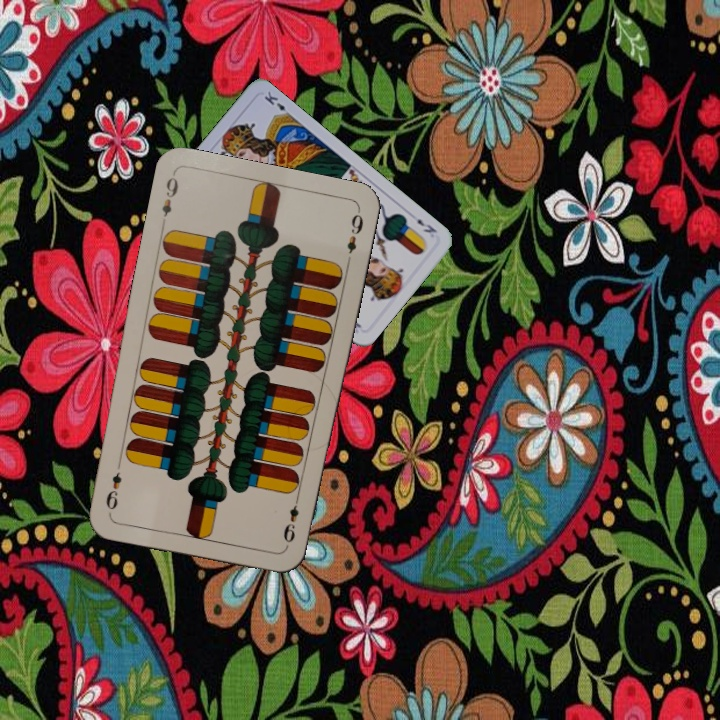E9: (279, 491, 302, 549), (158, 173, 181, 219)
EK: (413, 214, 439, 236)
